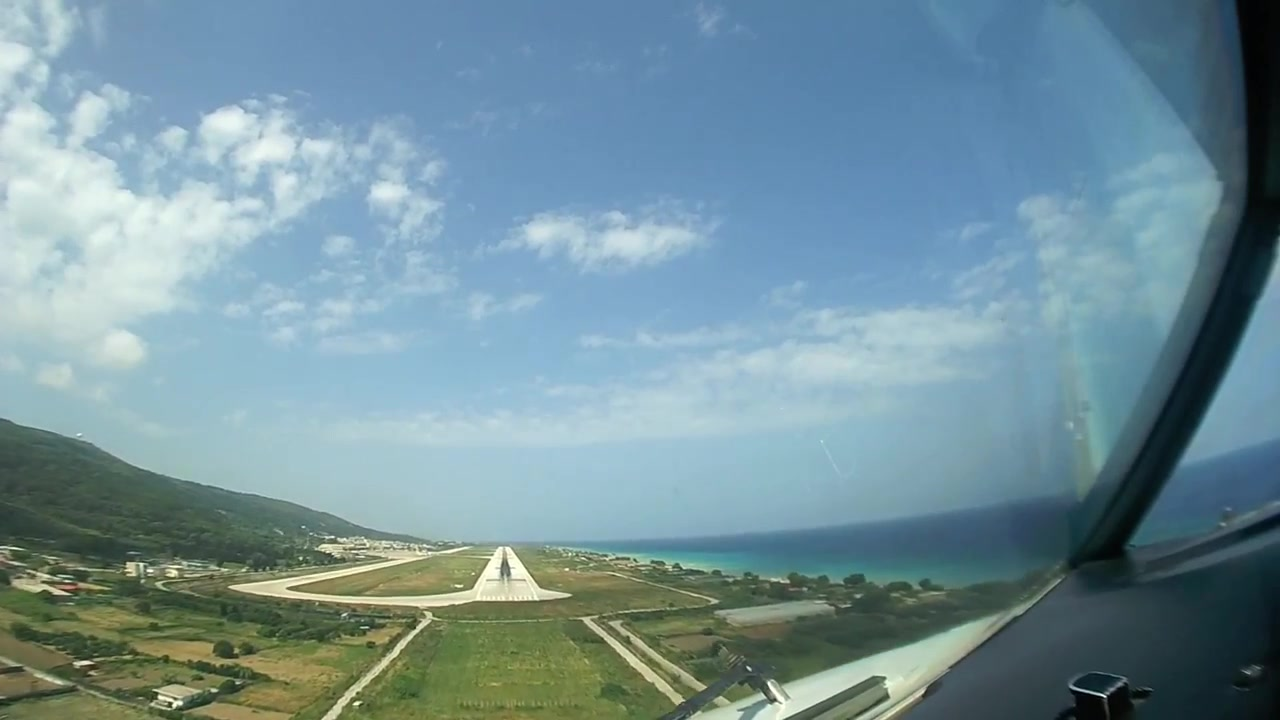entrance: (479, 593, 534, 601)
runway: (473, 550, 540, 604)
